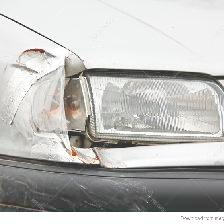head_lamp: (5, 43, 212, 171)
